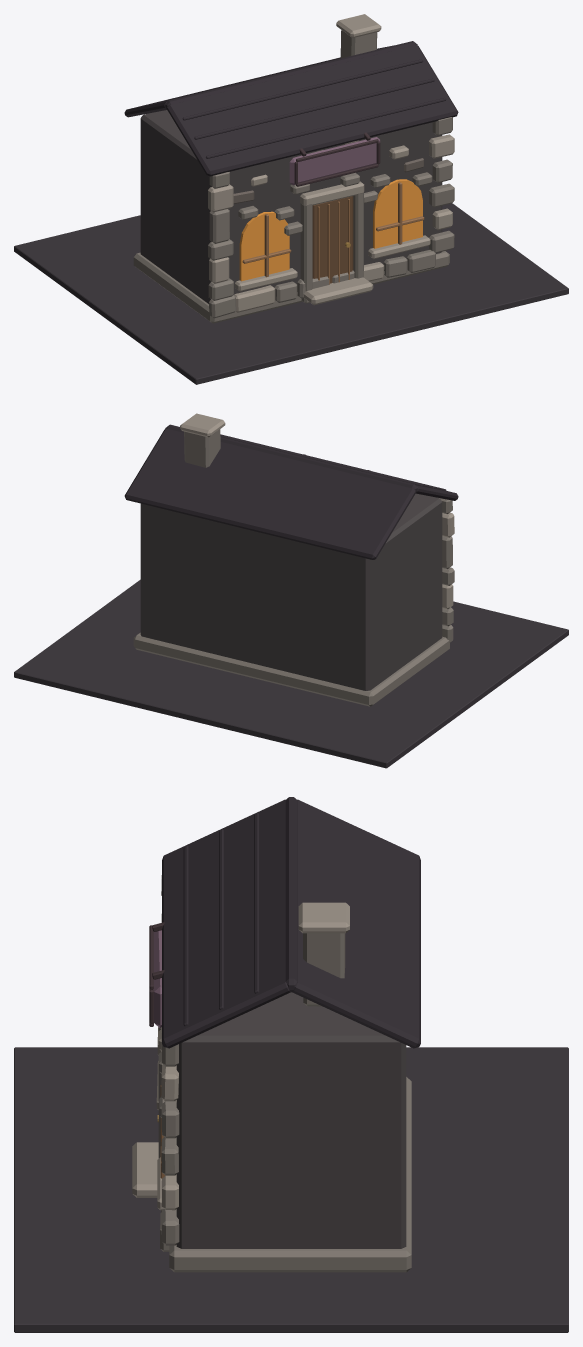
File: storefront.glb
The picture shows the model from 3 angles, top to bottom: view 1: azimuth 30°, elevation 25°; view 2: azimuth 150°, elevation 25°; view 3: azimuth 270°, elevation 25°; orthographic projection. The views are drawn at different scales.
Visible parts, largest first — view 1: PreviewGround, StoreBody, RoofFront, DoorSlab, RightWindow_DarkGlass, LeftWindow_DarkGlass, Foundation, BlankStoreSign, RoofRidge, DoorStep, DoorFrameLeft, RoofBatten_1 (+18 smaller); view 2: StoreBody, PreviewGround, RoofBack, Foundation, RoofRidge, Chimney, ChimneyCap; view 3: PreviewGround, StoreBody, RoofFront, RoofBack, Foundation, RoofRidge, Chimney, ChimneyCap, DoorStep, RoofBatten_2, RoofBatten_0, RoofBatten_1 (+2 smaller).
Part boxes in pixels (x1=…): PreviewGround: x1=14, y1=203, x2=568, y2=384; StoreBody: x1=140, y1=110, x2=442, y2=303; RoofFront: x1=167, y1=45, x2=458, y2=176; DoorSlab: x1=312, y1=196, x2=353, y2=283; RightWindow_DarkGlass: x1=373, y1=179, x2=422, y2=248; LeftWindow_DarkGlass: x1=239, y1=211, x2=289, y2=281; Foundation: x1=133, y1=251, x2=449, y2=323; BlankStoreSign: x1=289, y1=137, x2=380, y2=185; RoofRidge: x1=165, y1=41, x2=417, y2=107; DoorStep: x1=303, y1=277, x2=373, y2=305; DoorFrameLeft: x1=300, y1=203, x2=312, y2=303; RoofBatten_1: x1=194, y1=78, x2=434, y2=139; StoreBody: x1=140, y1=493, x2=442, y2=690; PreviewGround: x1=14, y1=579, x2=568, y2=768; RoofBack: x1=124, y1=428, x2=415, y2=559; Foundation: x1=133, y1=632, x2=449, y2=706; RoofRidge: x1=165, y1=424, x2=417, y2=491; Chimney: x1=184, y1=429, x2=220, y2=467; ChimneyCap: x1=180, y1=413, x2=225, y2=437; PreviewGround: x1=14, y1=1047, x2=568, y2=1332; StoreBody: x1=176, y1=992, x2=406, y2=1248; RoofFront: x1=162, y1=799, x2=290, y2=1048; RoofBack: x1=292, y1=799, x2=420, y2=1048; Foundation: x1=169, y1=1077, x2=411, y2=1272; RoofRidge: x1=285, y1=797, x2=297, y2=992; Chimney: x1=303, y1=933, x2=345, y2=1006; ChimneyCap: x1=298, y1=902, x2=349, y2=933; DoorStep: x1=132, y1=1142, x2=158, y2=1197; RoofBatten_2: x1=254, y1=813, x2=259, y2=993; RoofBatten_0: x1=183, y1=845, x2=188, y2=1026; RoofBatten_1: x1=219, y1=829, x2=223, y2=1009.
Bounding box in the file's own units: 13 × 7.44 × 11.
